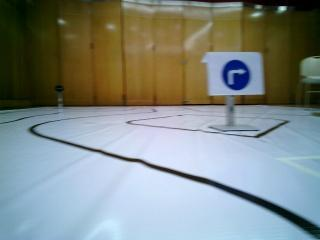right: (210, 52, 260, 97)
